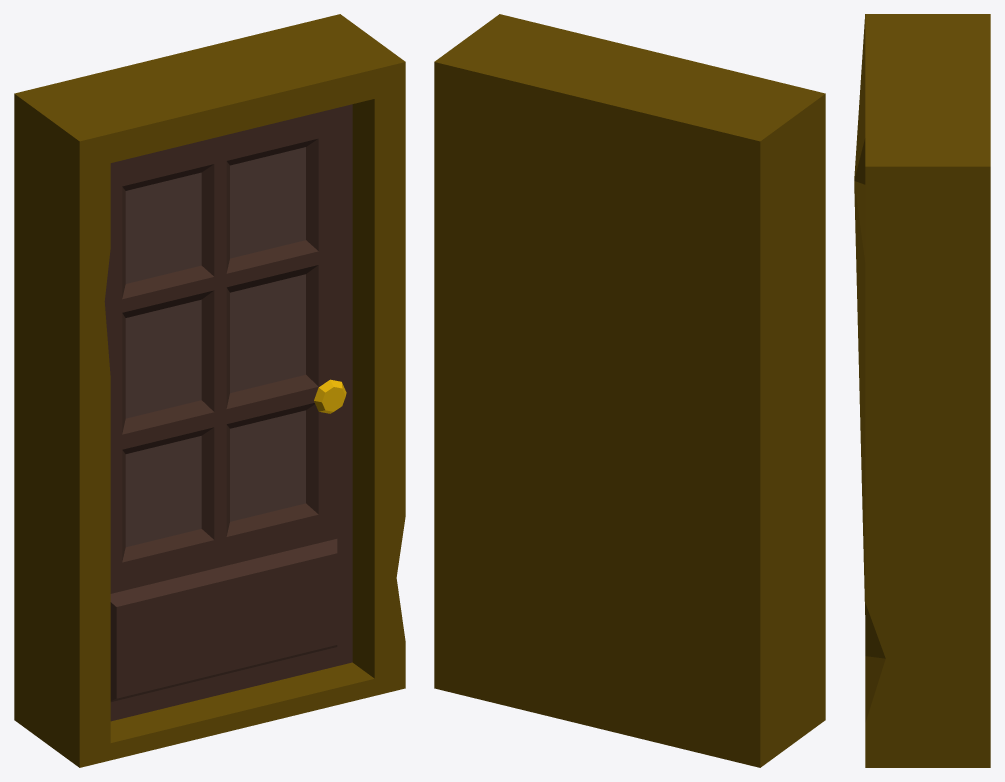
File: SM_Prop_Door_01.FBX
The picture shows the model from 3 angles, left to right: view 1: azimuth 30°, elevation 25°; view 2: azimuth 150°, elevation 25°; view 3: azimuth 270°, elevation 25°; orthographic projection. The views are drawn at different scales.
Parts seen in each view (by area): view 1: SM_Prop_Door_01; view 2: SM_Prop_Door_01; view 3: SM_Prop_Door_01.
Part boxes in pixels (<box>): SM_Prop_Door_01: <box>14,14,405,767</box>; SM_Prop_Door_01: <box>434,14,825,767</box>; SM_Prop_Door_01: <box>854,14,990,767</box>.
Size of what is drawn, in the model's own units: 143 by 262 by 53.93.
